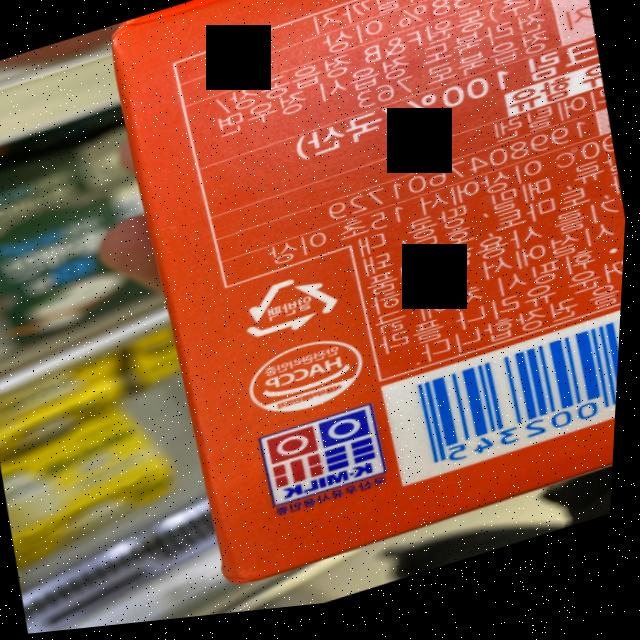NormalPack: (236, 264, 357, 355)
